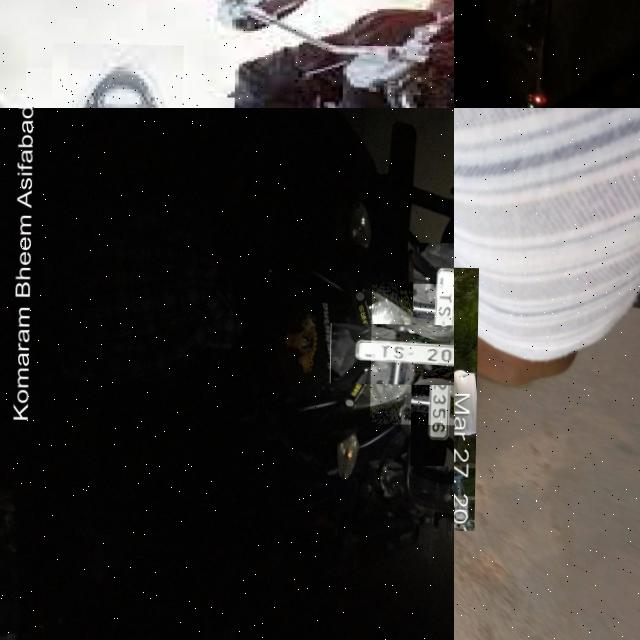helmet: (22, 66, 208, 108)
plate: (369, 281, 454, 424)
